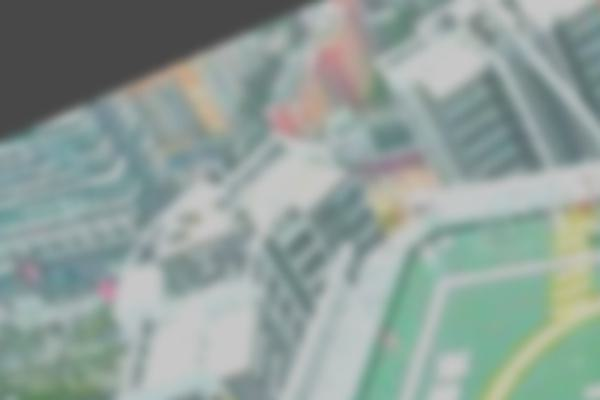Apron: (476, 279, 600, 400)
